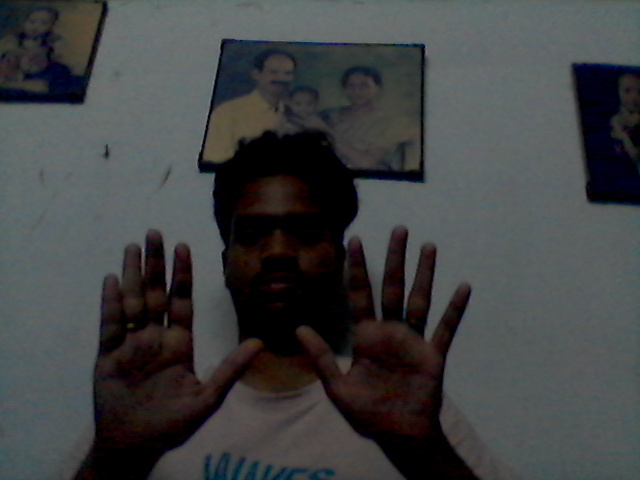Hi: (81, 221, 265, 462), (297, 222, 481, 452)
